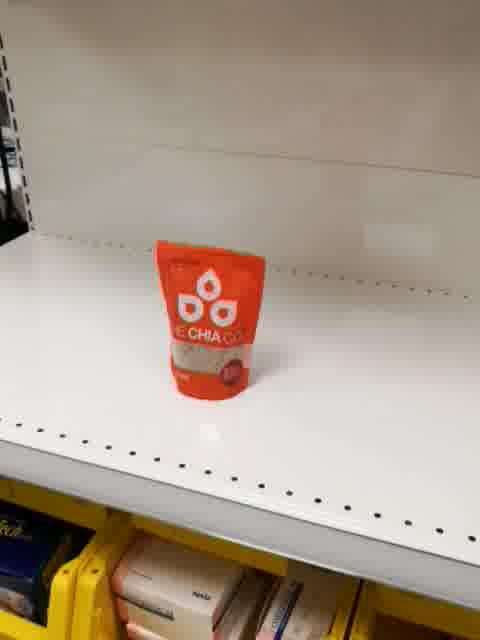whitechia: (155, 240, 268, 403)
